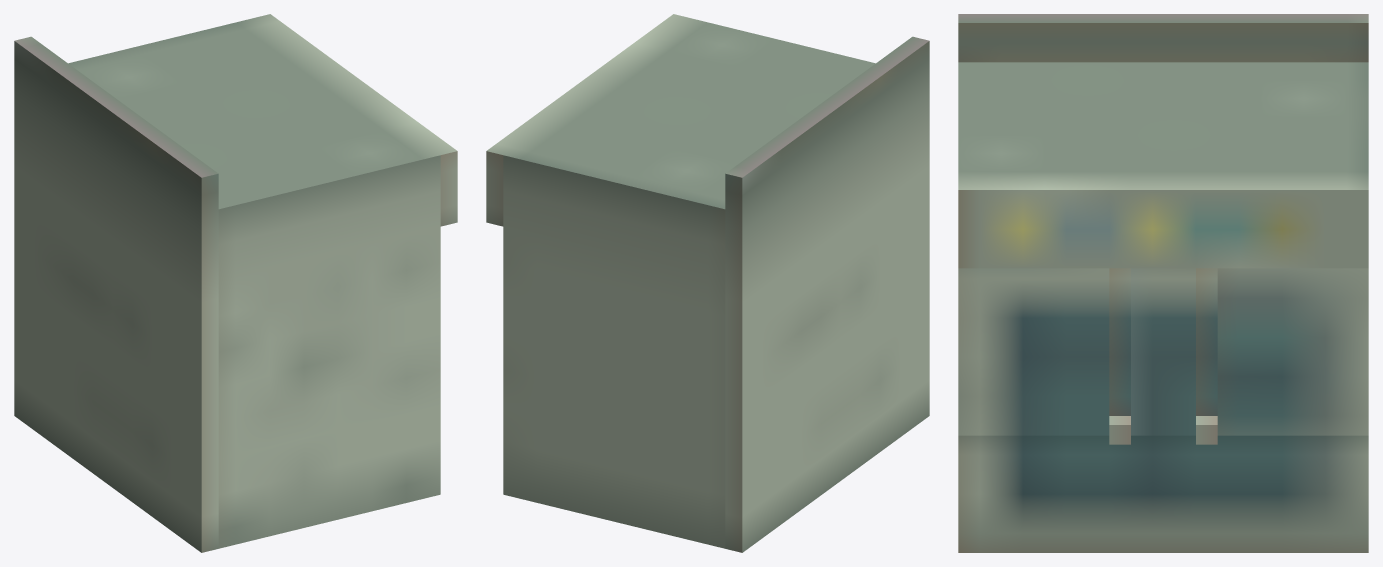
Rendered from CountertopCabinetGreen_01.obj.
3 renders of one model, left to right at view 1: azimuth 30°, elevation 25°; view 2: azimuth 150°, elevation 25°; view 3: azimuth 270°, elevation 25°, orthographic. The views are drawn at different scales.
Visible parts, largest first — view 1: CountertopCabinetGreen_01; view 2: CountertopCabinetGreen_01; view 3: CountertopCabinetGreen_01.
Part boxes in pixels (x1,y1,x2,y2): CountertopCabinetGreen_01: (14,14,457,552); CountertopCabinetGreen_01: (486,14,929,552); CountertopCabinetGreen_01: (958,14,1368,552).
Size of the model in its own units: 0.75 by 1.05 by 0.95.
